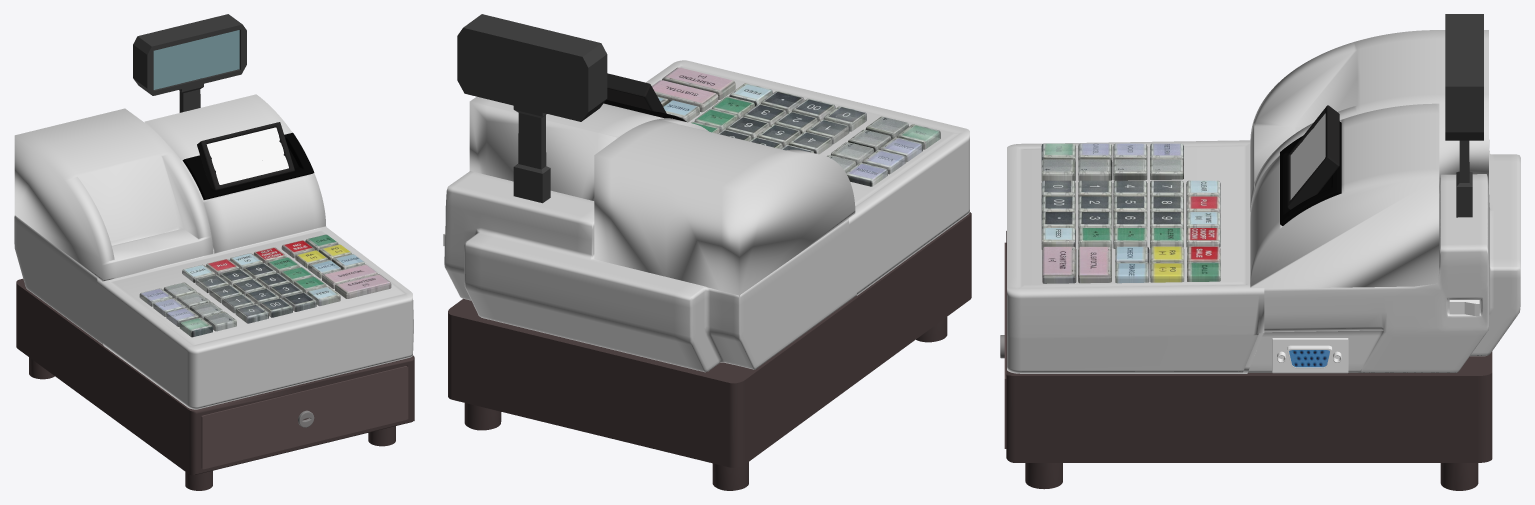
File: cash_register.glb
The picture shows the model from 3 angles, left to right: view 1: azimuth 30°, elevation 25°; view 2: azimuth 150°, elevation 25°; view 3: azimuth 270°, elevation 25°; orthographic projection. The views are drawn at different scales.
Visible parts, largest first — view 1: Cube_0_mesh, Cube.027_0_mesh, Cube.045_0_mesh, Cube.047_0_mesh, Cube.030_0_mesh, Cube.001_0_mesh, layar0_0_mesh, Cube.033_0_mesh, Cube.031_0_mesh, Cube.028_0_mesh, Cube.004_0_mesh, Cube.029_0_mesh (+9 smaller); view 2: Cube_0_mesh, Cube.045_0_mesh, Cube.027_0_mesh, Cube.001_0_mesh, Cube.030_0_mesh, Cube.028_0_mesh, Cube.029_0_mesh, Cube.004_0_mesh, Cube.043_0_mesh, Cube.042_0_mesh, Cube.021_0_mesh, Cube.013_0_mesh (+8 smaller); view 3: Cube_0_mesh, Cube.045_0_mesh, Cube.030_0_mesh, Cube.027_0_mesh, Cube.001_0_mesh, Cube.033_0_mesh, Cube.029_0_mesh, Cube.028_0_mesh, Cube.004_0_mesh, Cube.046_0_mesh, Cube.031_0_mesh, Cube.043_0_mesh (+22 smaller).
Part boxes in pixels (box(x1,y1,x2,y2)): Cube_0_mesh: box(14, 215, 413, 409); Cube.027_0_mesh: box(14, 108, 213, 281); Cube.045_0_mesh: box(16, 278, 414, 490); Cube.047_0_mesh: box(201, 366, 408, 469); Cube.030_0_mesh: box(144, 94, 326, 254); Cube.001_0_mesh: box(133, 14, 246, 112); layar0_0_mesh: box(153, 30, 239, 89); Cube.033_0_mesh: box(281, 234, 364, 278); Cube.031_0_mesh: box(182, 132, 314, 199); Cube.028_0_mesh: box(139, 288, 212, 337); Cube.004_0_mesh: box(197, 122, 294, 190); Cube.029_0_mesh: box(163, 282, 236, 331); Cube_0_mesh: box(444, 60, 969, 372); Cube.045_0_mesh: box(448, 212, 971, 490); Cube.027_0_mesh: box(594, 118, 855, 297); Cube.001_0_mesh: box(457, 14, 607, 203); Cube.030_0_mesh: box(469, 96, 672, 200); Cube.028_0_mesh: box(846, 124, 940, 186); Cube.029_0_mesh: box(827, 116, 908, 172); Cube.004_0_mesh: box(606, 73, 666, 113); Cube.043_0_mesh: box(662, 67, 735, 99); Cube.042_0_mesh: box(652, 80, 718, 112); Cube.021_0_mesh: box(823, 106, 866, 131); Cube.013_0_mesh: box(788, 131, 832, 154); Cube_0_mesh: box(1007, 140, 1520, 373); Cube.045_0_mesh: box(1006, 231, 1492, 490); Cube.030_0_mesh: box(1250, 103, 1439, 288); Cube.027_0_mesh: box(1250, 30, 1488, 211); Cube.001_0_mesh: box(1445, 14, 1483, 217); Cube.033_0_mesh: box(1115, 246, 1220, 283); Cube.029_0_mesh: box(1041, 159, 1183, 180); Cube.028_0_mesh: box(1041, 143, 1183, 161); Cube.004_0_mesh: box(1287, 105, 1339, 209); Cube.046_0_mesh: box(1272, 338, 1348, 373); Cube.031_0_mesh: box(1280, 121, 1341, 225); Cube.043_0_mesh: box(1042, 246, 1076, 283).
Bounding box in the file's own units: 0.4102 × 0.5217 × 0.5947.
Materials: 15 (4 with a texture image).
